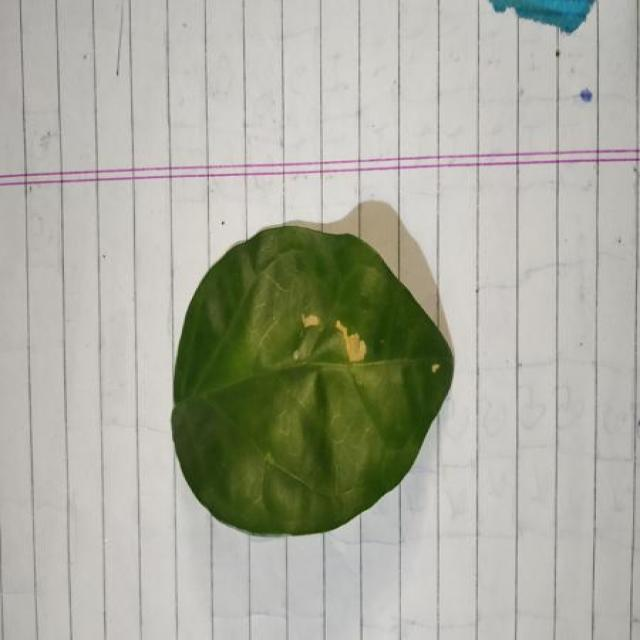Jasmine: (172, 225, 453, 534)
